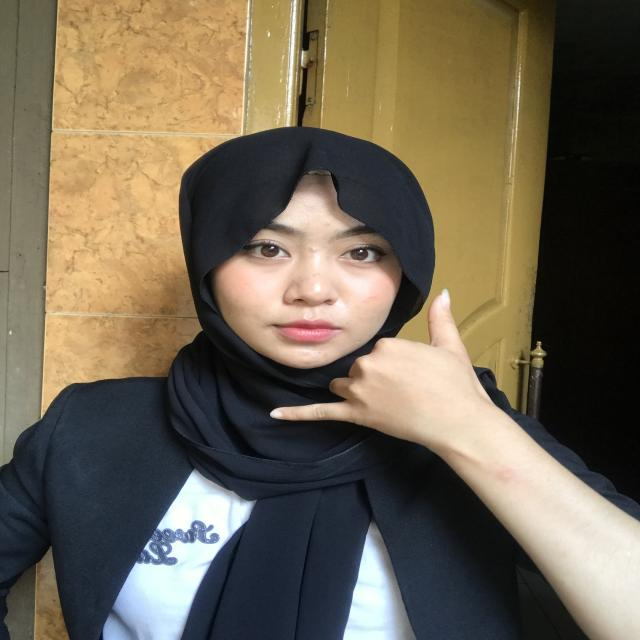telpon: (262, 278, 502, 477)
